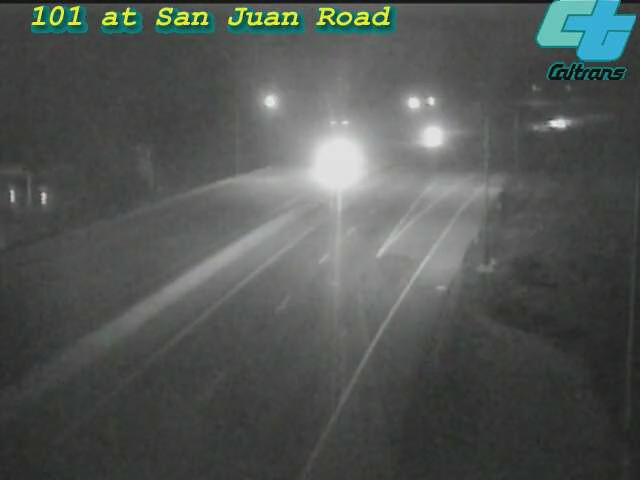vehicle: (290, 126, 370, 206), (405, 113, 455, 163), (540, 96, 590, 146)
